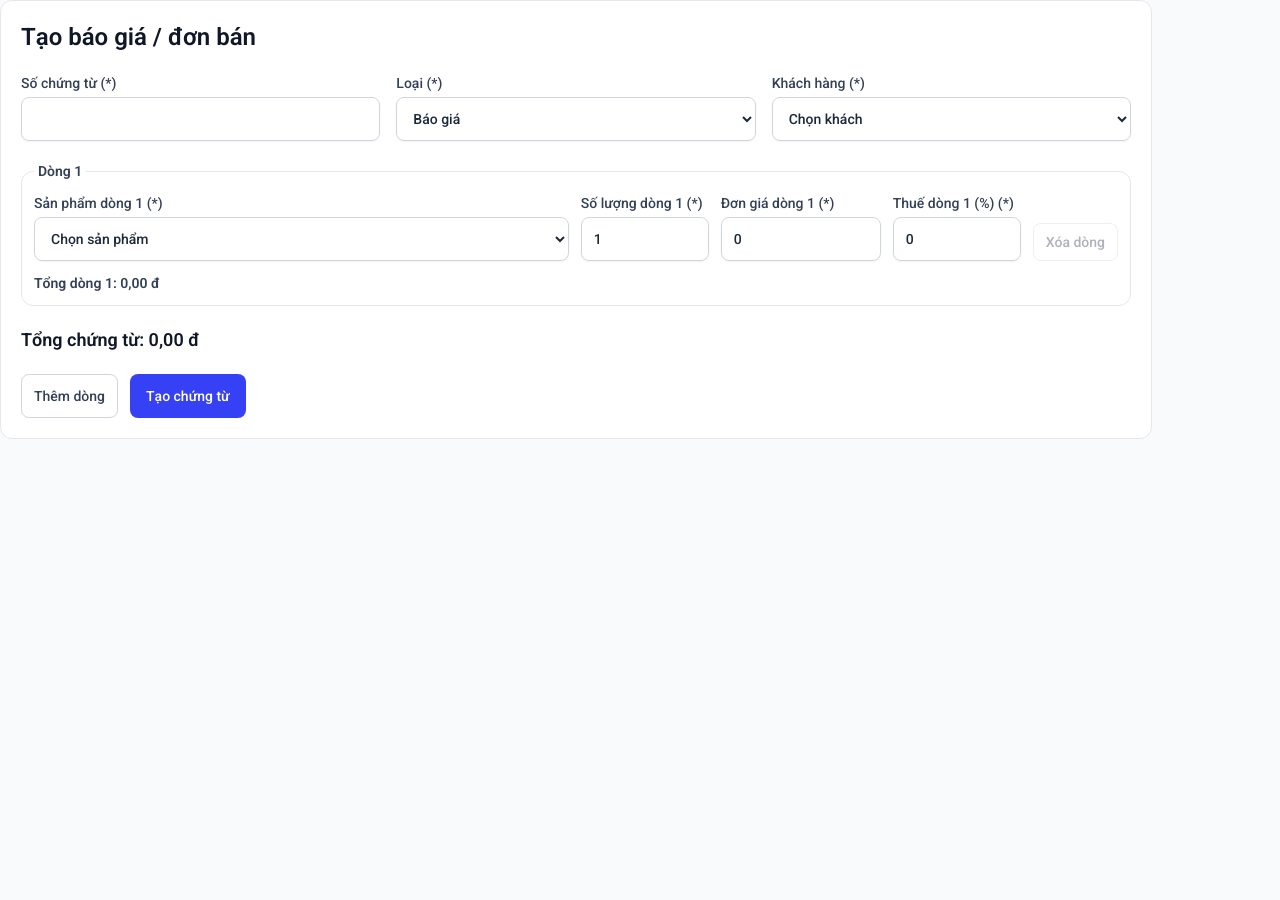
removes the middle sales line without losing the following row
Check: the dropdown labelled "Sản phẩm dòng 1 (*)" is shown, box [34,217,569,261]
Click the button "Thêm dòng" at (70, 396), box [21,374,118,418]
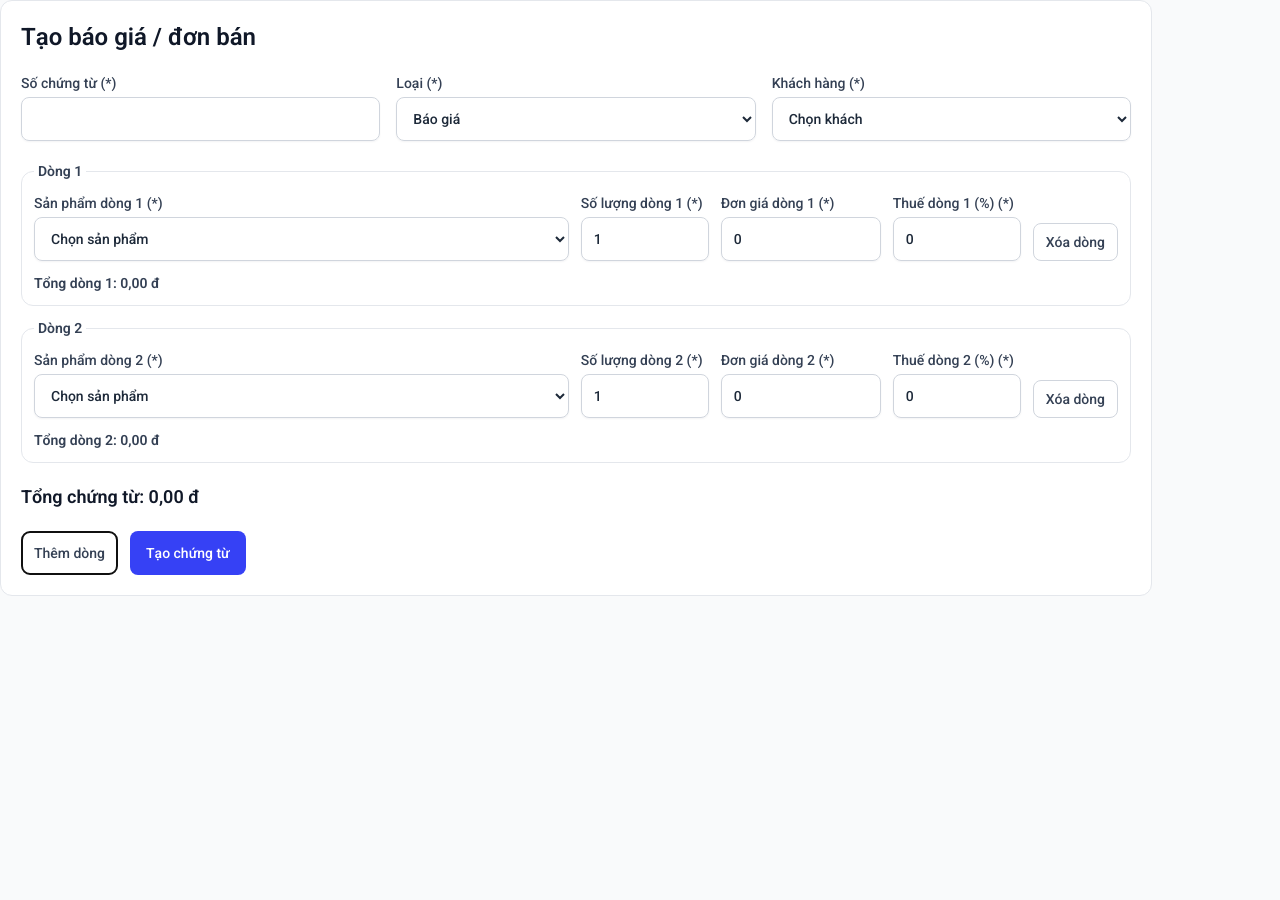
Click the button "Thêm dòng" at (70, 553), box [21,531,118,575]
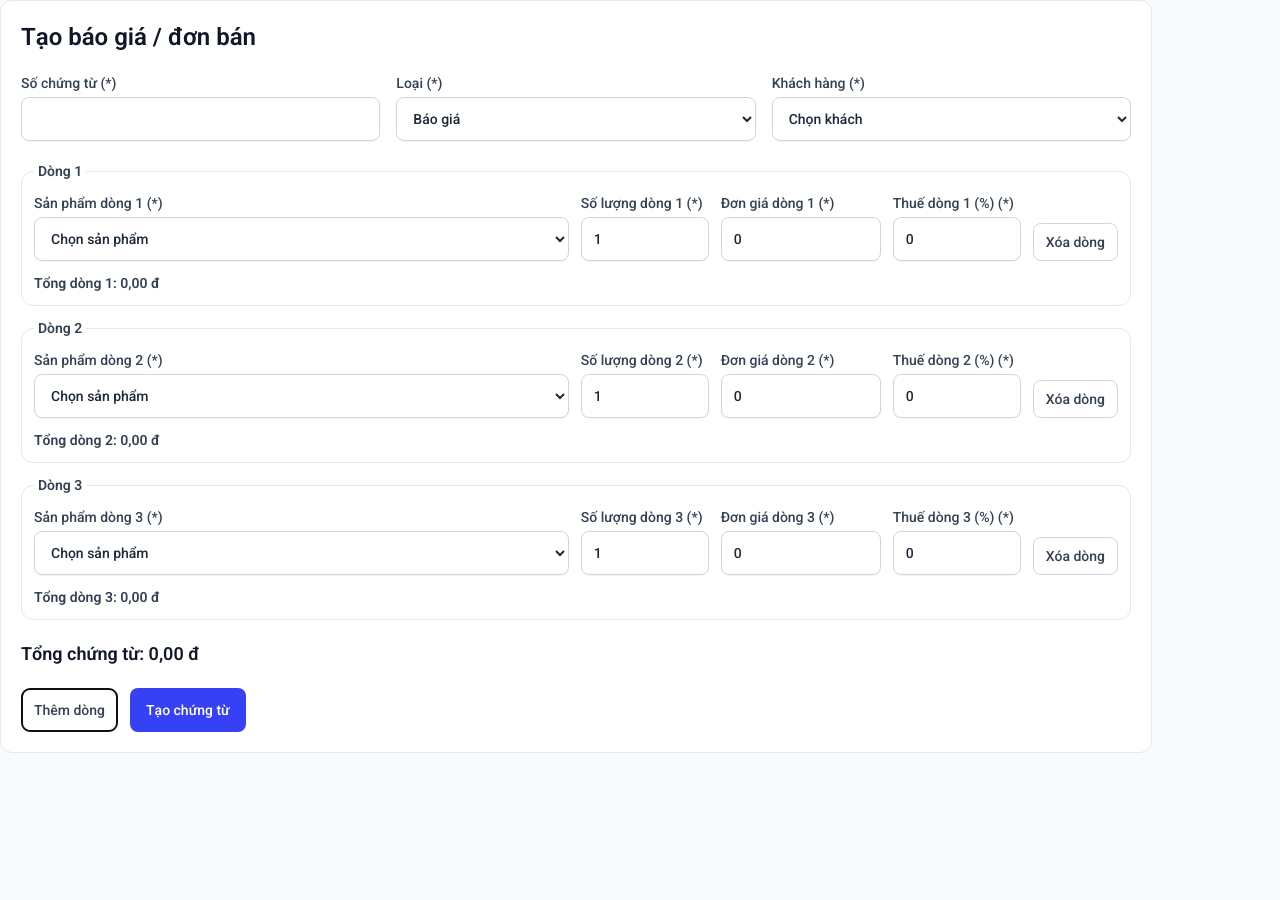
Select "SKU-3 - Sản phẩm 3" in the dropdown labelled "Sản phẩm dòng 3 (*)" at (301, 553), box [34,531,569,575]
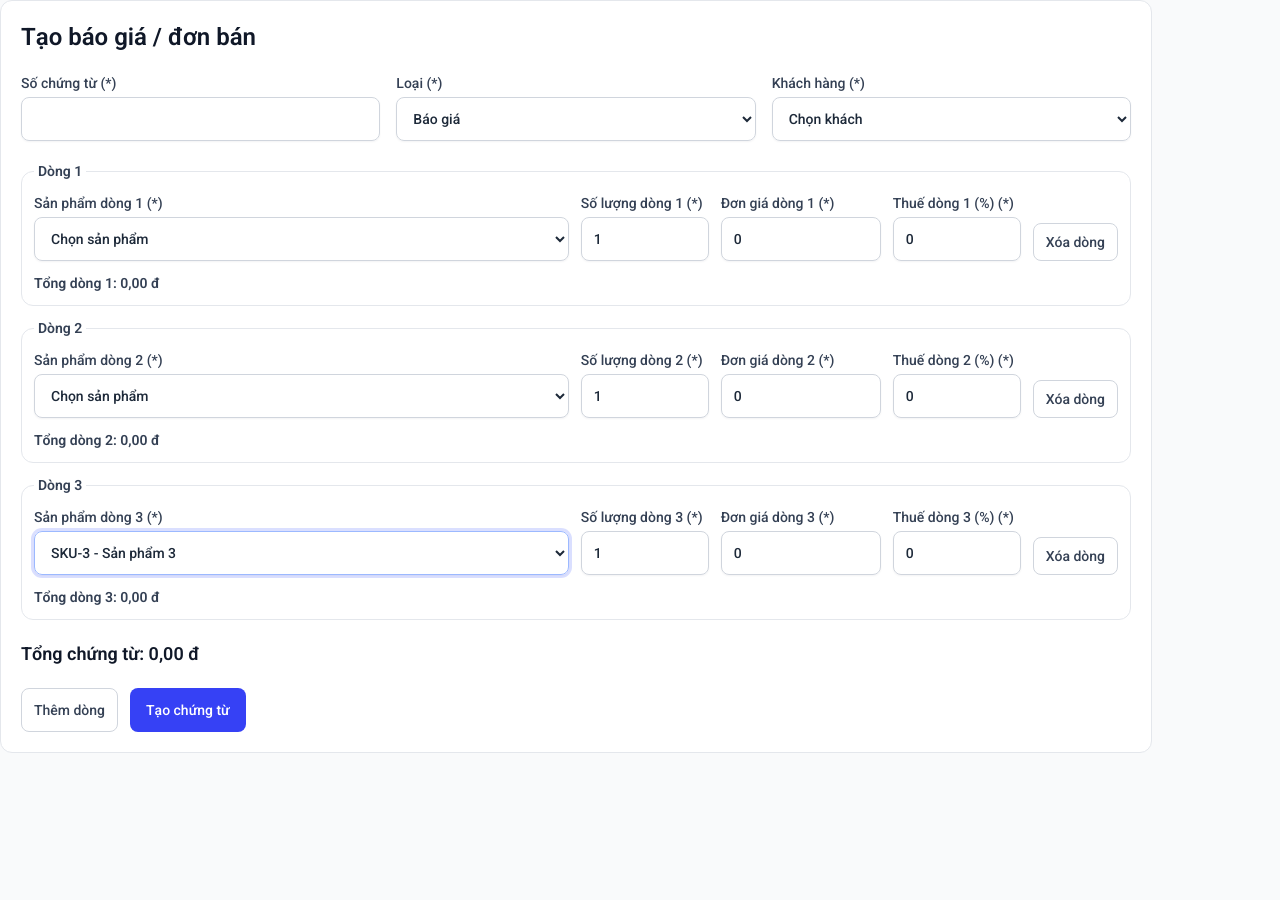
Click the button with aria-label "Xóa dòng 2" at (1075, 399), box [1033,380,1118,418]
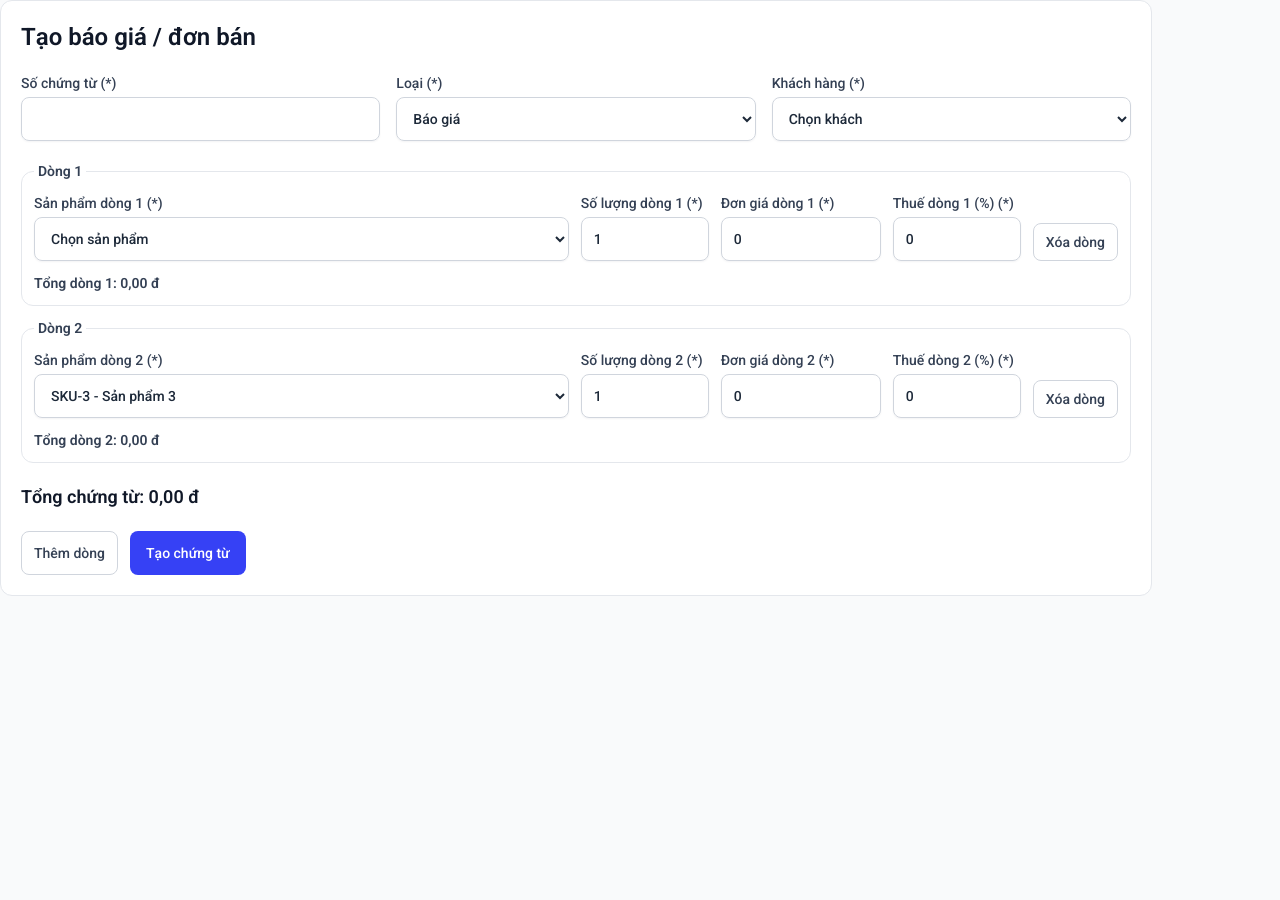
Check: the button with aria-label "Xóa dòng 1" is enabled, box [1033,223,1118,261]
Check: the number of dropdowns labelled "Sản phẩm dòng 1 (*)" is 2, box [34,217,569,261]; [34,374,569,418]
